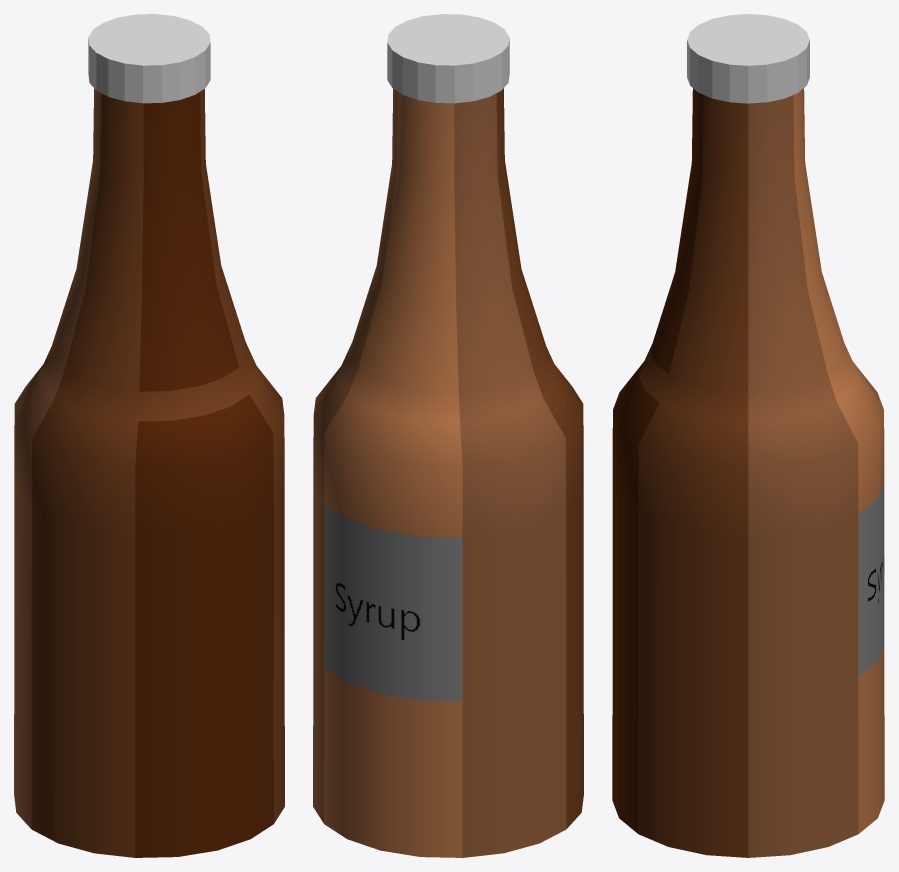
Rendered from syrupbottle.fbx.
The picture shows the model from 3 angles, left to right: view 1: azimuth 30°, elevation 25°; view 2: azimuth 150°, elevation 25°; view 3: azimuth 270°, elevation 25°; orthographic projection.
Visible parts, largest first — view 1: pCylinder1, pCylinder2; view 2: pCylinder1, pCylinder2; view 3: pCylinder1, pCylinder2.
Boxes of the visible parts, x1,y1,x2,y2 form: pCylinder1: [14, 88, 284, 857]; pCylinder2: [88, 14, 210, 103]; pCylinder1: [313, 88, 583, 857]; pCylinder2: [387, 14, 509, 103]; pCylinder1: [612, 88, 884, 857]; pCylinder2: [687, 14, 809, 103].
Size of the model in its own units: 2.04 by 6.3 by 2.04.
2 materials, 2 textured.
